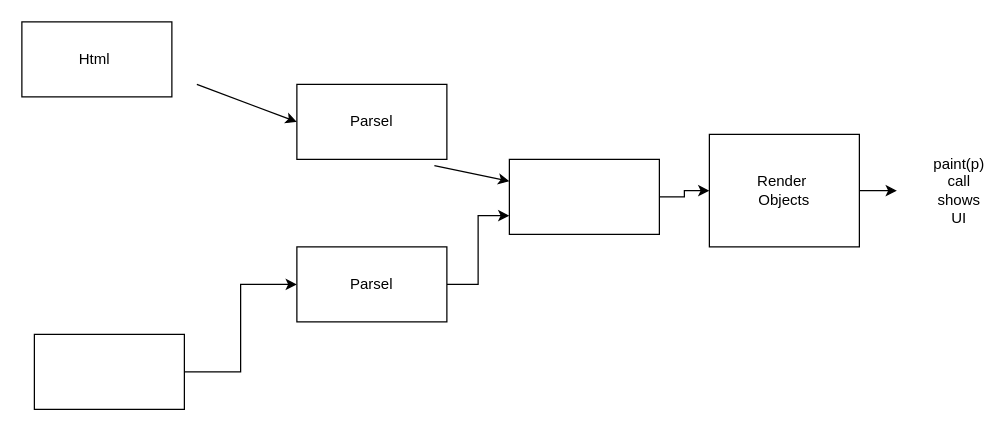
Some shapes in this 1006 by 431 pixel diagram are drawn without their labels. The shapes that lost their labels are listed below. From the top down, each one's box as (x1, y1, x2, y2) in pixels, then its label:
(508, 158, 659, 234): Attachment
(33, 333, 184, 409): CSS
